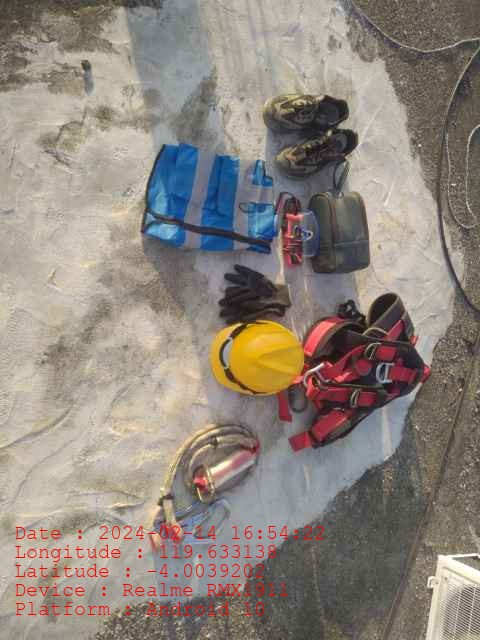HELM: (211, 321, 304, 396)
ROMPI: (143, 144, 274, 252)
SEPATU: (262, 95, 358, 179)
